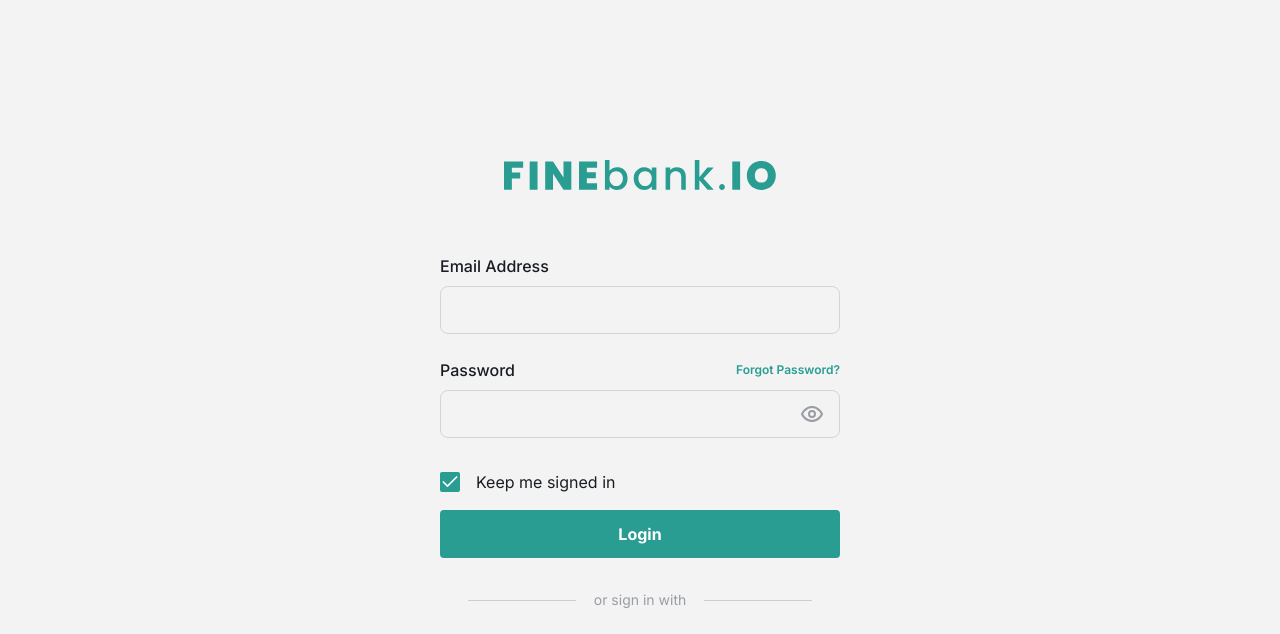
Test: successful login › opens Overview without a return target
Check: the button "Login" is shown, box [440,510,840,558]
In the field labelled "Email Address": (640, 310) [456,287,824,333], type "tanzir@example.com"
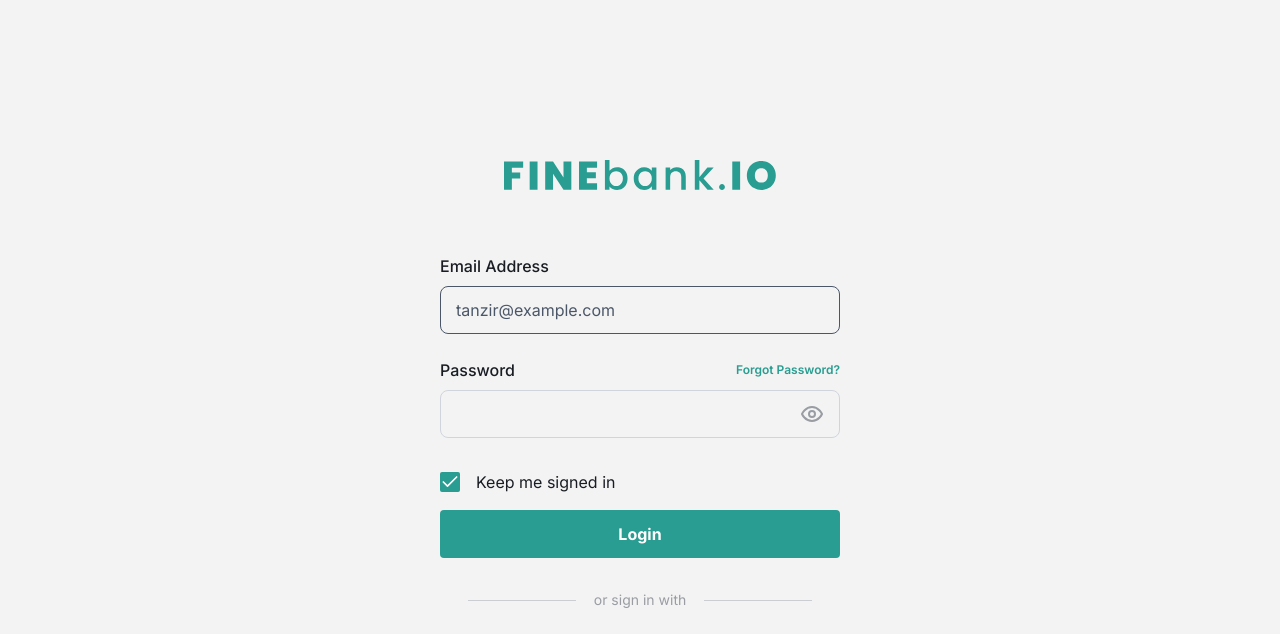
In the password field labelled "Password": (620, 414) [456,391,784,437], type "abcdef12"
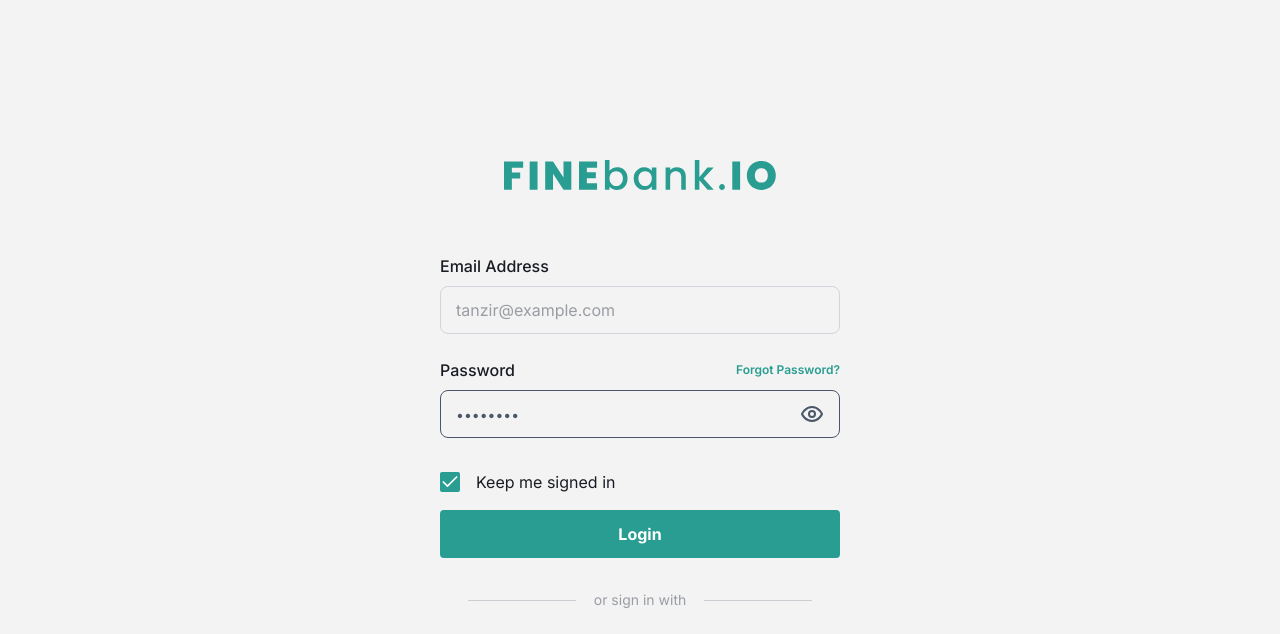
Click the button "Login": (640, 534) [440,510,840,558]
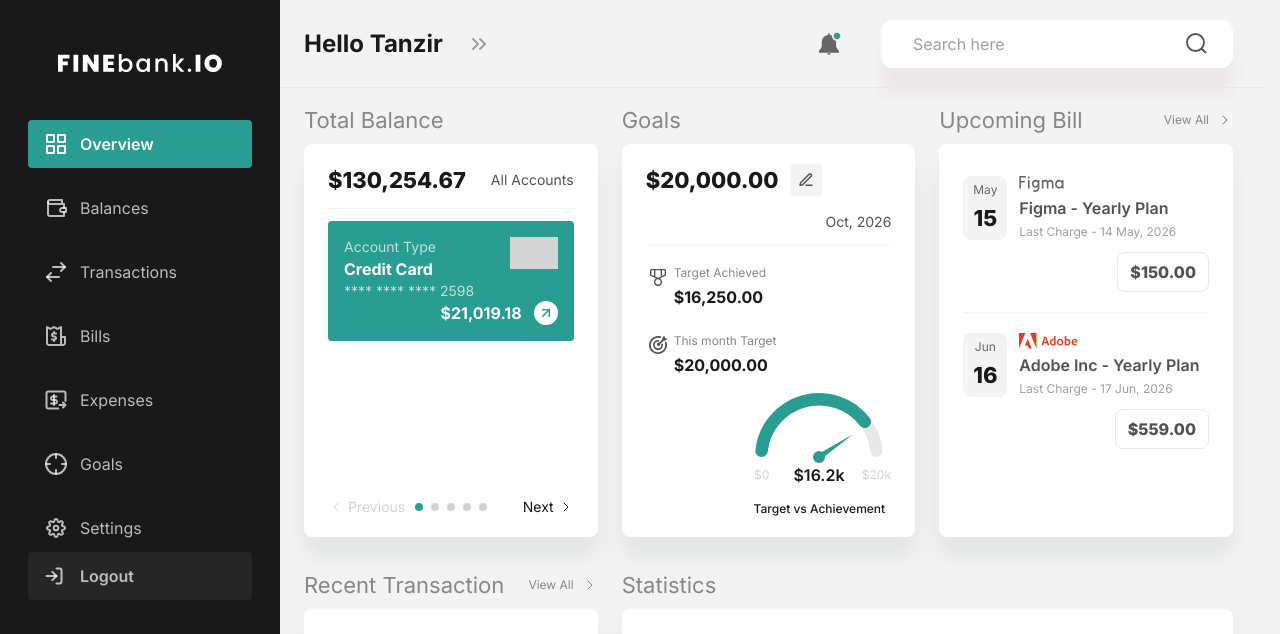
Check: the navigation bar named "Main" is shown, box [28,120,252,552]
Check: the element "Total Balance" is shown, box [304,104,598,537]
